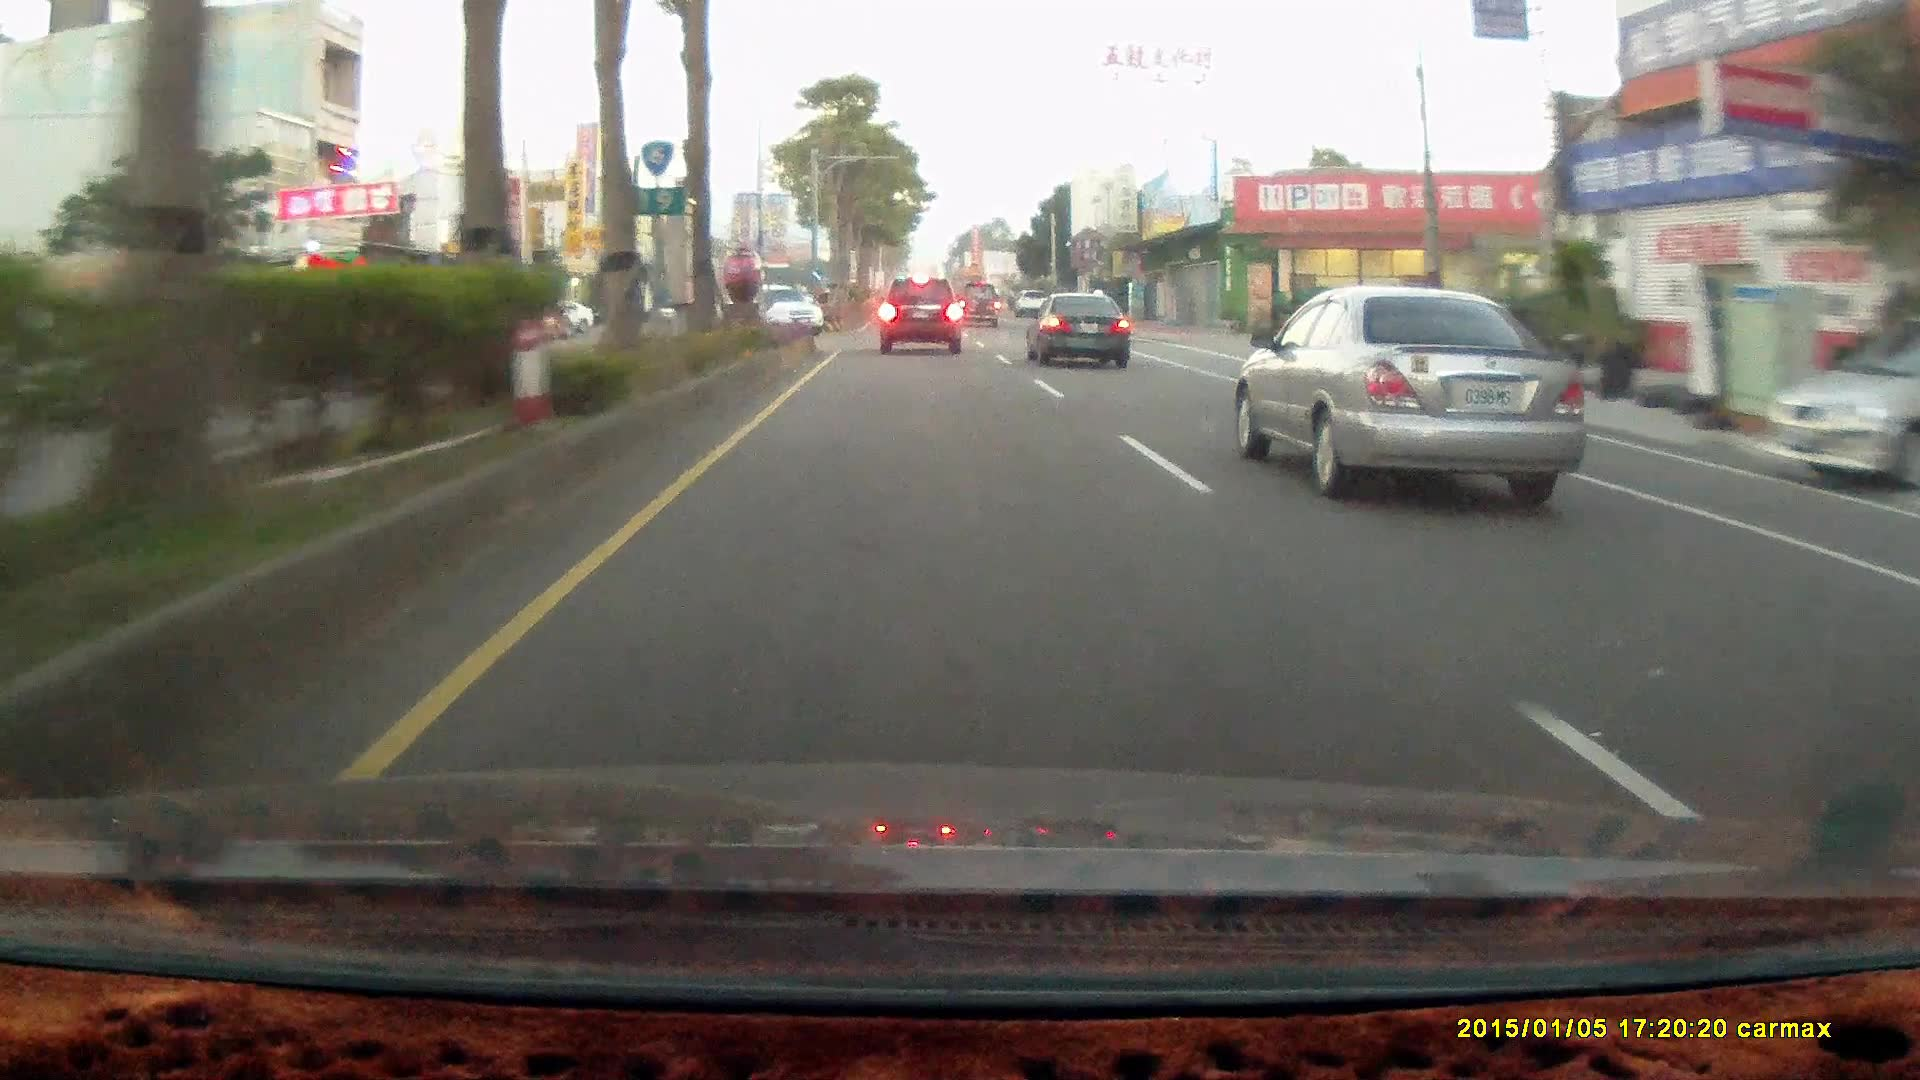vehicle: (1238, 287, 1581, 504), (1766, 313, 1920, 497), (1766, 313, 1920, 496), (1026, 289, 1135, 371), (1025, 286, 1129, 363), (880, 273, 967, 357), (877, 272, 957, 349), (760, 284, 825, 342), (758, 281, 824, 338), (953, 280, 1002, 331)
